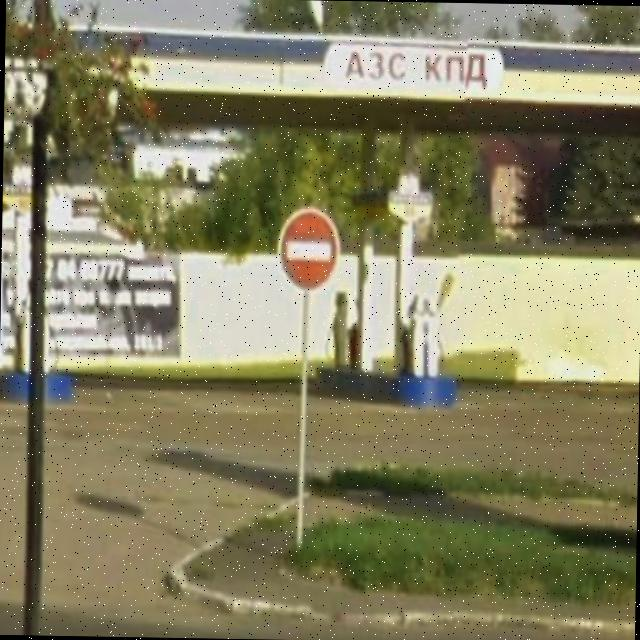Zakaz wjazdu: (271, 198, 343, 294)
